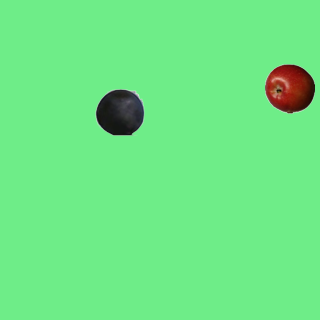Apple Braeburn: (264, 63, 314, 113)
Grape Blue: (94, 86, 144, 136)
